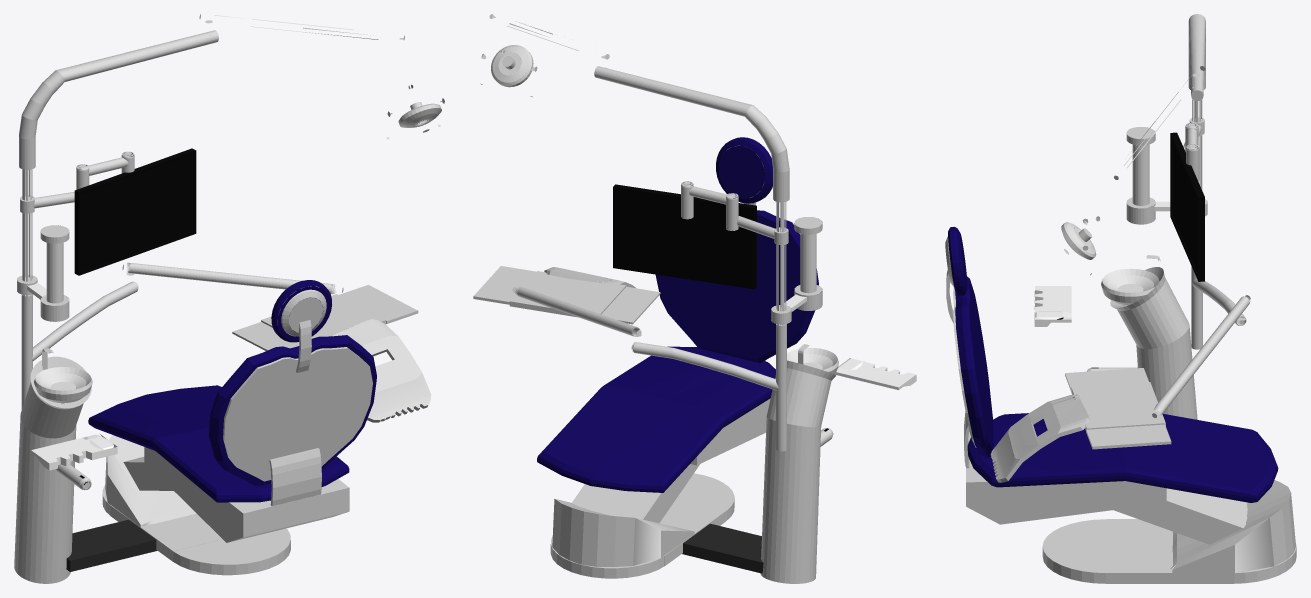
File: clinic_dental.glb
The picture shows the model from 3 angles, left to right: view 1: azimuth 30°, elevation 25°; view 2: azimuth 150°, elevation 25°; view 3: azimuth 270°, elevation 25°; orthographic projection. The views are drawn at different scales.
Parts seen in each view (by area): view 1: clinic_dental; view 2: clinic_dental; view 3: clinic_dental.
Boxes of the visible parts, x1,y1,x2,y2 form: clinic_dental: (14, 14, 444, 583); clinic_dental: (473, 14, 916, 583); clinic_dental: (945, 14, 1296, 583).
Size of the model in its own units: 1.73 by 2 by 1.24.
